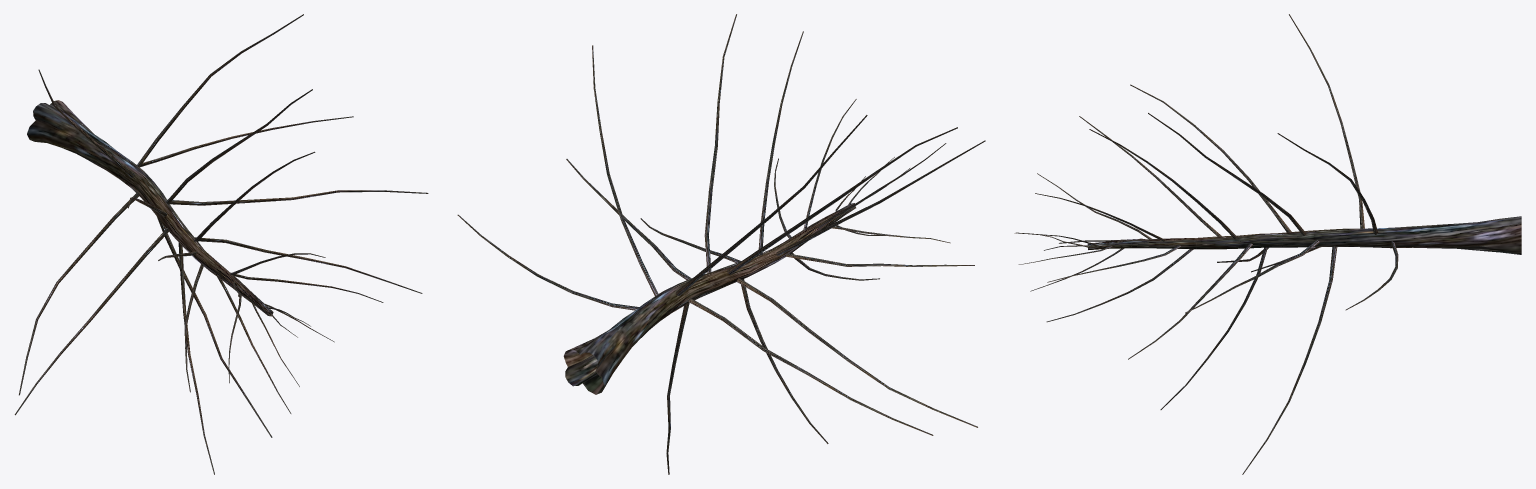
File: tree6.obj
3 renders of one model, left to right at view 1: azimuth 30°, elevation 25°; view 2: azimuth 150°, elevation 25°; view 3: azimuth 270°, elevation 25°, orthographic. The views are drawn at different scales.
Parts seen in each view (by area): view 1: Foliage01, Foliage016, Foliage019, Foliage014, Foliage012, Foliage015, Foliage0110, Foliage0111, Foliage017, Foliage011, Foliage013, Foliage0112; view 2: Foliage01, Foliage014, Foliage018, Foliage019, Foliage013, Foliage017, Foliage012, Foliage0113, Foliage0112, Foliage011, Foliage015, Foliage0110 (+2 smaller); view 3: Foliage01, Foliage015, Foliage013, Foliage018, Foliage017, Foliage0110.
Boxes of the visible parts, x1,y1,x2,y2 form: Foliage01: (27,100,273,316); Foliage016: (167,190,428,205); Foliage019: (14,227,168,415); Foliage014: (19,192,139,395); Foliage012: (136,14,303,167); Foliage015: (157,217,272,437); Foliage0110: (178,242,214,474); Foliage0111: (195,237,422,293); Foliage017: (165,89,312,204); Foliage011: (136,116,353,167); Foliage013: (38,69,134,177); Foliage0112: (194,151,315,241); Foliage01: (563,203,855,394); Foliage014: (688,298,933,435); Foliage018: (727,127,957,274); Foliage019: (737,278,977,427); Foliage013: (676,115,867,295); Foliage017: (704,14,736,273); Foliage012: (592,45,658,296); Foliage0113: (775,140,985,255); Foliage0112: (758,31,803,254); Foliage011: (457,214,639,310); Foliage015: (666,303,689,474); Foliage0110: (741,279,828,443); Foliage01: (1087,216,1521,254); Foliage015: (1242,246,1337,474); Foliage013: (1289,14,1364,228); Foliage018: (1130,84,1291,232); Foliage017: (1148,113,1306,235); Foliage0110: (1160,247,1267,409).
Bounding box in the file's own units: 207 × 194 × 242.
